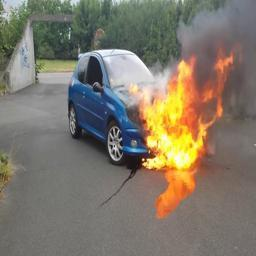fire: (133, 52, 234, 169)
